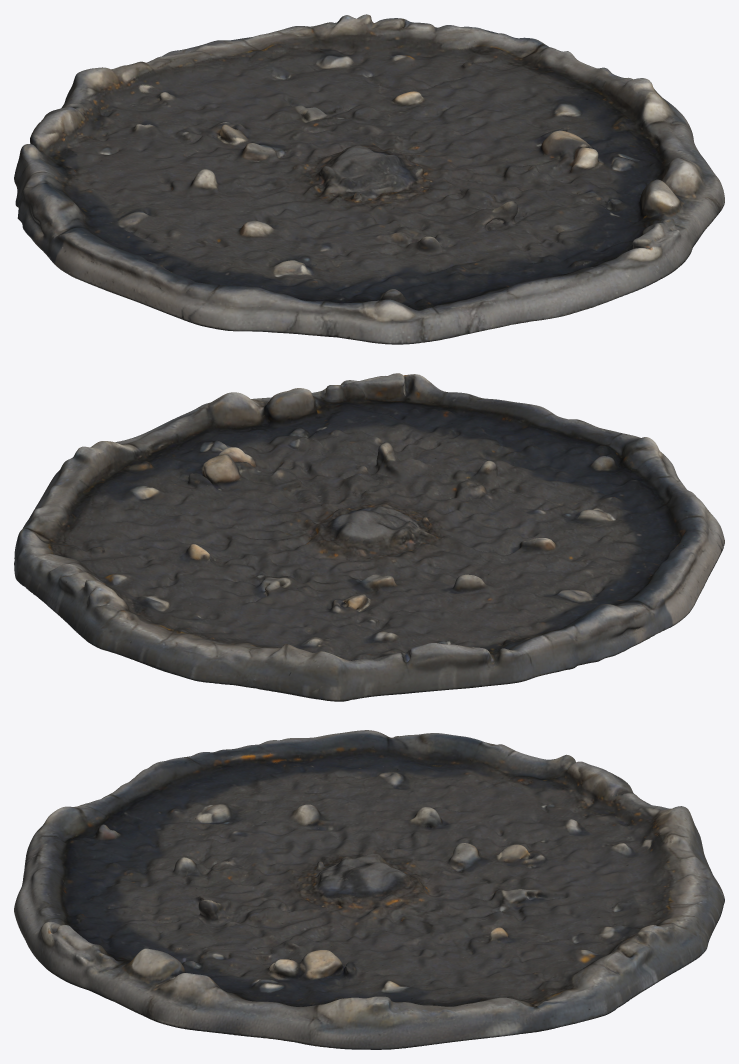
3 views of the same model, one above another, from view 1: azimuth 30°, elevation 25°; view 2: azimuth 150°, elevation 25°; view 3: azimuth 270°, elevation 25° (orthographic).
Parts seen in each view (by area): view 1: Mesh_0; view 2: Mesh_0; view 3: Mesh_0.
Part boxes in pixels (box(x1,y1,x2,y2)): Mesh_0: box(14, 14, 724, 344); Mesh_0: box(14, 373, 724, 701); Mesh_0: box(14, 730, 724, 1049).
Bounding box in the file's own units: 199 × 12.14 × 200.
1 material, 1 textured.
